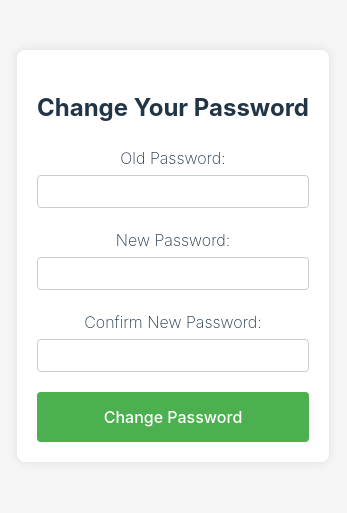
Scenario: AccountSettings › shows a success message on successful password update
Type "oldpass" into the password field with test id "oldPassword" at (173, 192), box x1=37 y1=175 x2=309 y2=208
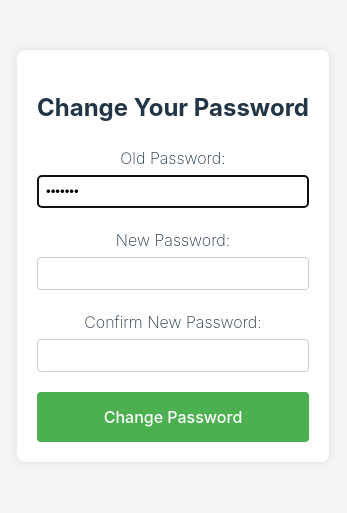
Type "newpass" into the password field with test id "newPassword" at (173, 274), box x1=37 y1=257 x2=309 y2=290
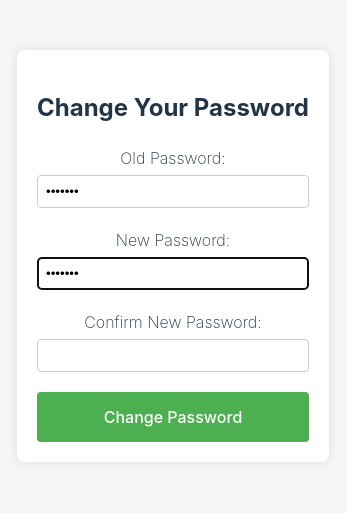
Type "newpass" into the password field with test id "confirmPassword" at (173, 356), box x1=37 y1=339 x2=309 y2=372
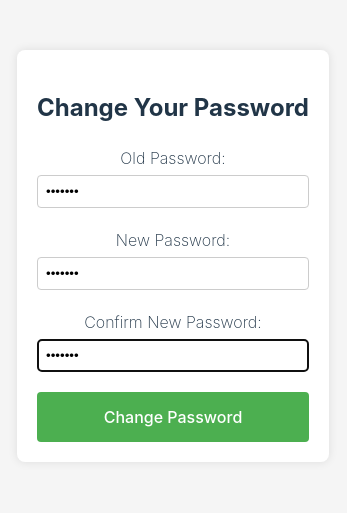
Click the button "Change Password" at (173, 417), box x1=37 y1=392 x2=309 y2=442
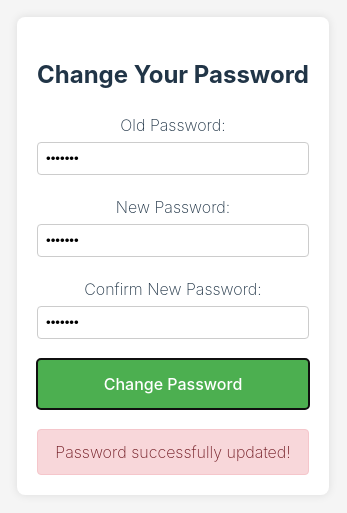
expect the text "Password successfully updated!" is shown: met, box x1=37 y1=429 x2=309 y2=475
